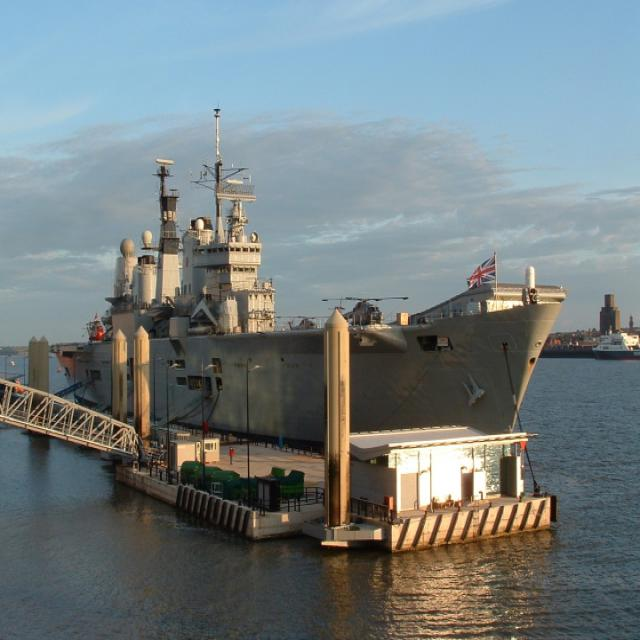Portanaves: (49, 82, 590, 502)
